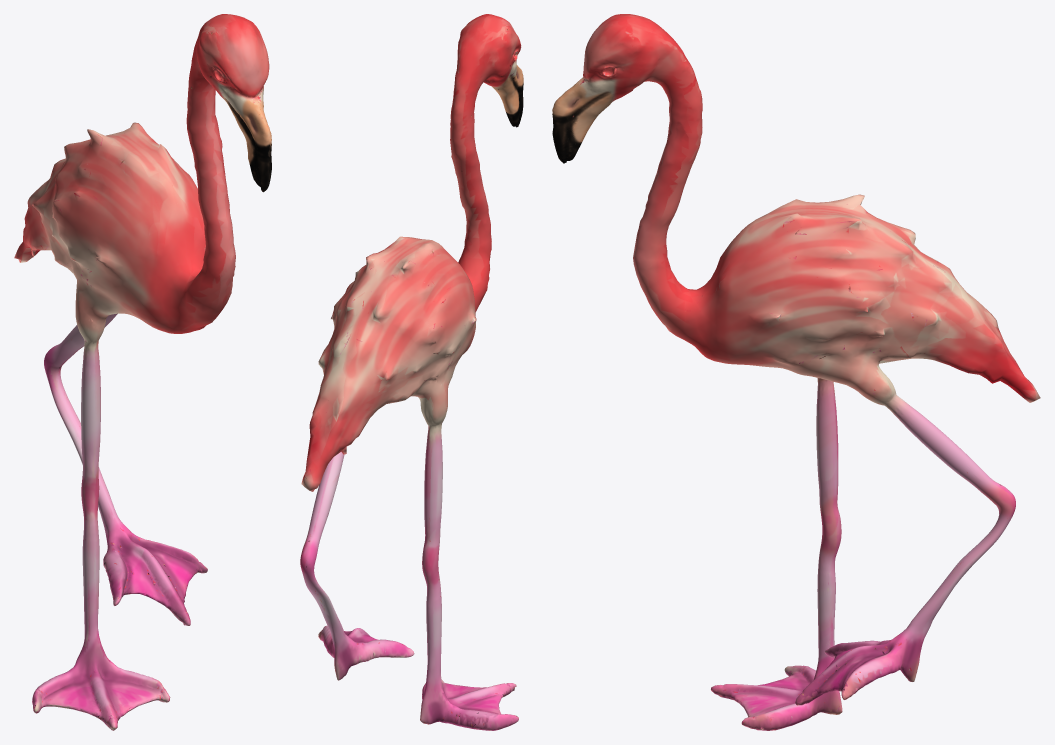
File: flamingo.fbx
3 renders of one model, left to right at view 1: azimuth 30°, elevation 25°; view 2: azimuth 150°, elevation 25°; view 3: azimuth 270°, elevation 25°, orthographic. The views are drawn at different scales.
Visible parts, largest first — view 1: Object_4; view 2: Object_4; view 3: Object_4.
Part boxes in pixels (x1=…): Object_4: x1=14, y1=14, x2=271, y2=730; Object_4: x1=300, y1=14, x2=523, y2=730; Object_4: x1=552, y1=14, x2=1040, y2=730.
Bounding box in the file's own units: 29.25 × 101 × 62.35.
1 material, 1 textured.
